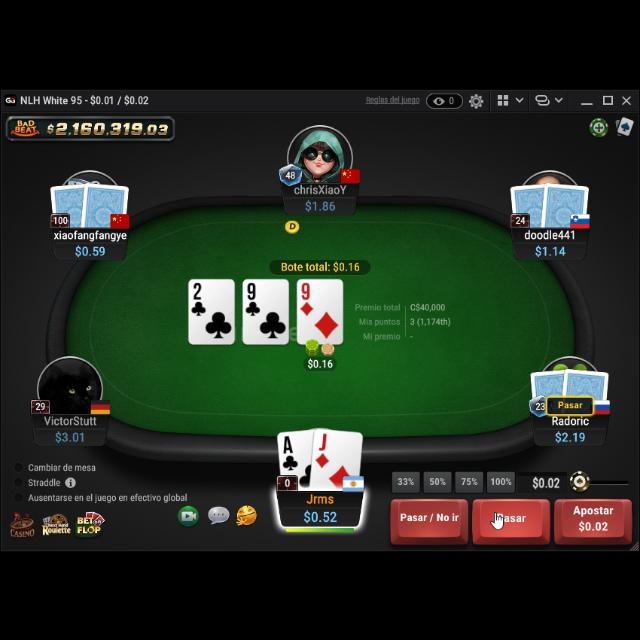2c: (190, 279, 208, 317)
9c: (244, 280, 262, 316)
9d: (299, 280, 315, 316)
Ac: (281, 432, 301, 471)
Jd: (314, 428, 332, 468)
bet_text: (306, 354, 334, 368)
card_back: (540, 179, 592, 229), (80, 177, 130, 227), (561, 363, 611, 412), (508, 179, 554, 227), (48, 177, 92, 227), (529, 365, 569, 409)
dealer: (284, 215, 300, 232)
hero_active: (389, 493, 637, 542)
pot_text: (282, 260, 362, 270)
stack_text: (301, 504, 339, 522), (534, 242, 566, 256), (74, 242, 106, 256), (304, 195, 336, 209), (554, 426, 586, 440), (55, 427, 85, 441)
